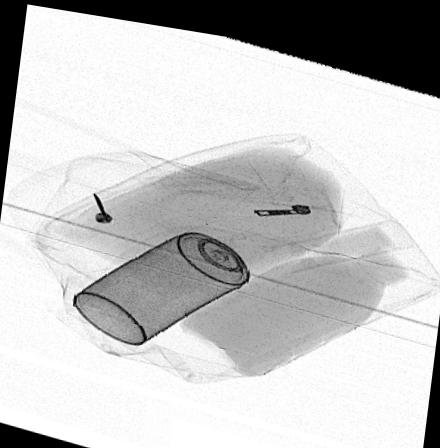Sprayer: (72, 205, 283, 341)
